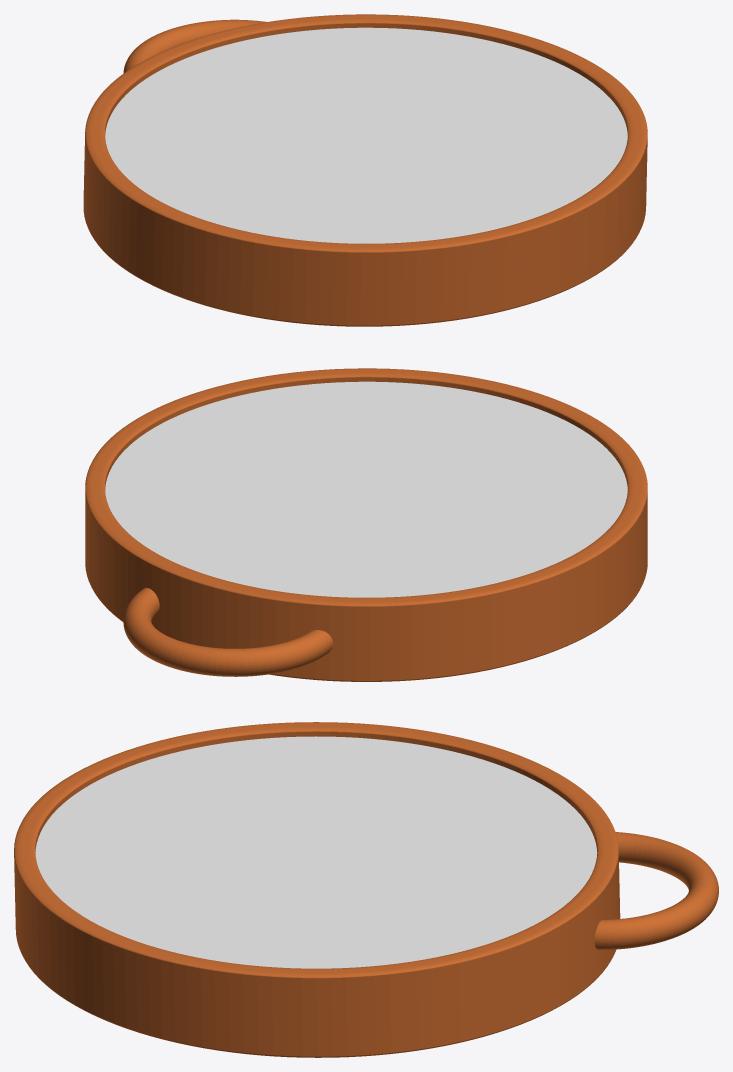
File: Compass.fbx
3 renders of one model, top to bottom at view 1: azimuth 30°, elevation 25°; view 2: azimuth 150°, elevation 25°; view 3: azimuth 270°, elevation 25°, orthographic. The views are drawn at different scales.
Visible parts, largest first — view 1: Glass, Body; view 2: Glass, Body; view 3: Glass, Body.
Boxes of the visible parts, <box> form: Glass: <box>105,27,627,243</box>; Body: <box>83,14,647,326</box>; Glass: <box>105,381,627,597</box>; Body: <box>85,368,647,681</box>; Glass: <box>35,736,597,968</box>; Body: <box>14,722,718,1057</box>.
Size of the model in its own units: 398 by 61.38 by 463.
